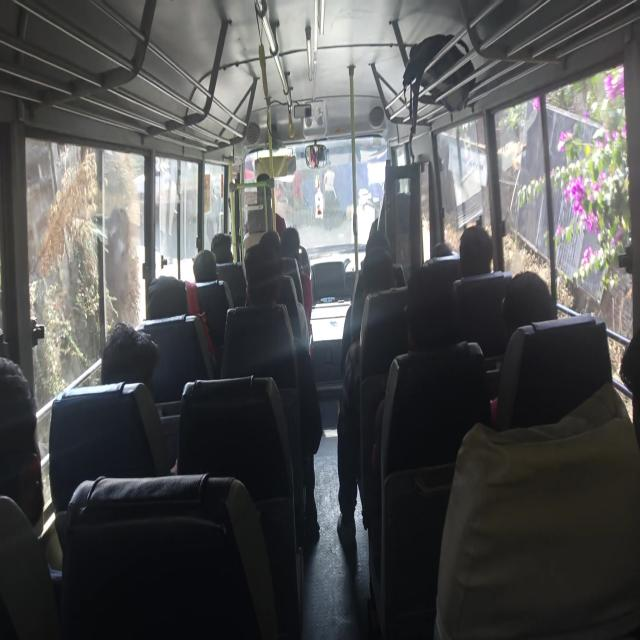person: (0, 350, 66, 576), (98, 328, 176, 419), (502, 276, 557, 381), (616, 312, 640, 550), (398, 282, 462, 367), (131, 278, 199, 337), (462, 221, 501, 293), (192, 250, 235, 296), (210, 231, 245, 282), (247, 250, 281, 300), (365, 269, 403, 310), (262, 228, 288, 267), (361, 240, 392, 270), (281, 220, 299, 263), (432, 236, 456, 265)
